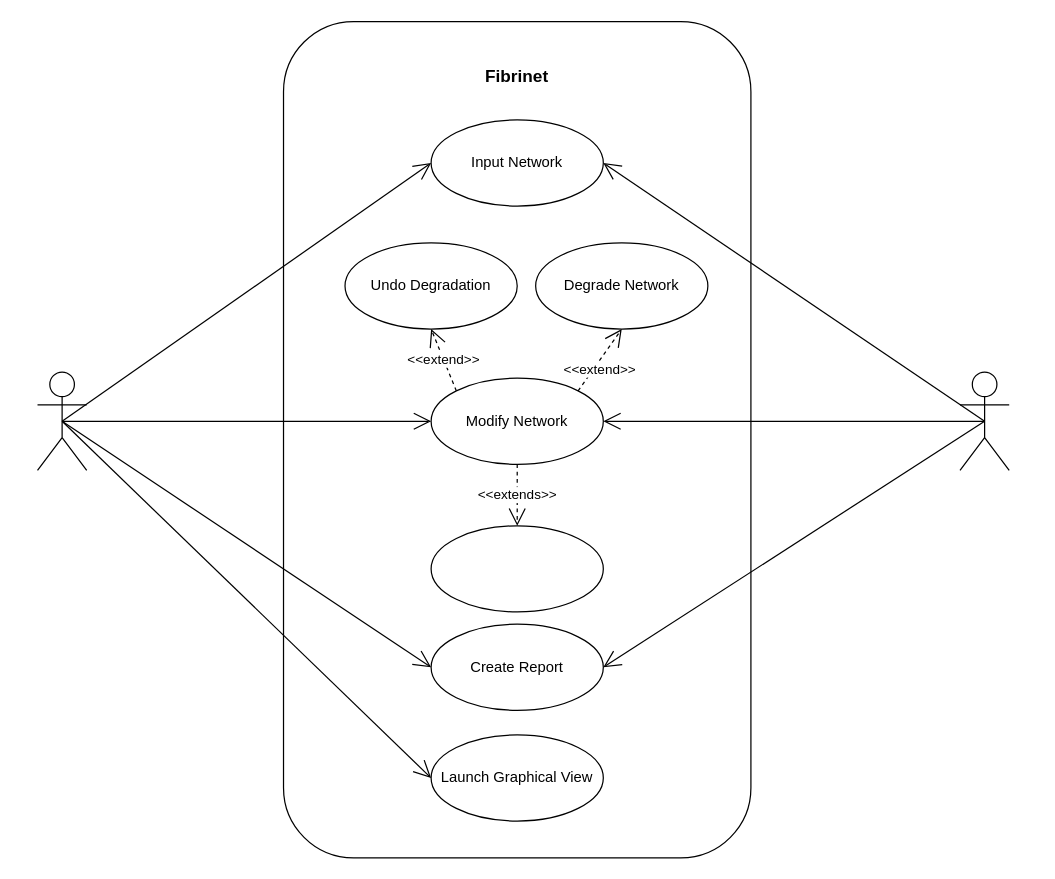
This 1055x879 diagram has some shape labels left out. The box of each missing label's shape, as (x1, y1, x2, y2) in pixels:
Computer Task: (959, 371, 1009, 470)
Human User: (36, 371, 87, 470)
Modify Network Properties: (430, 525, 603, 612)
